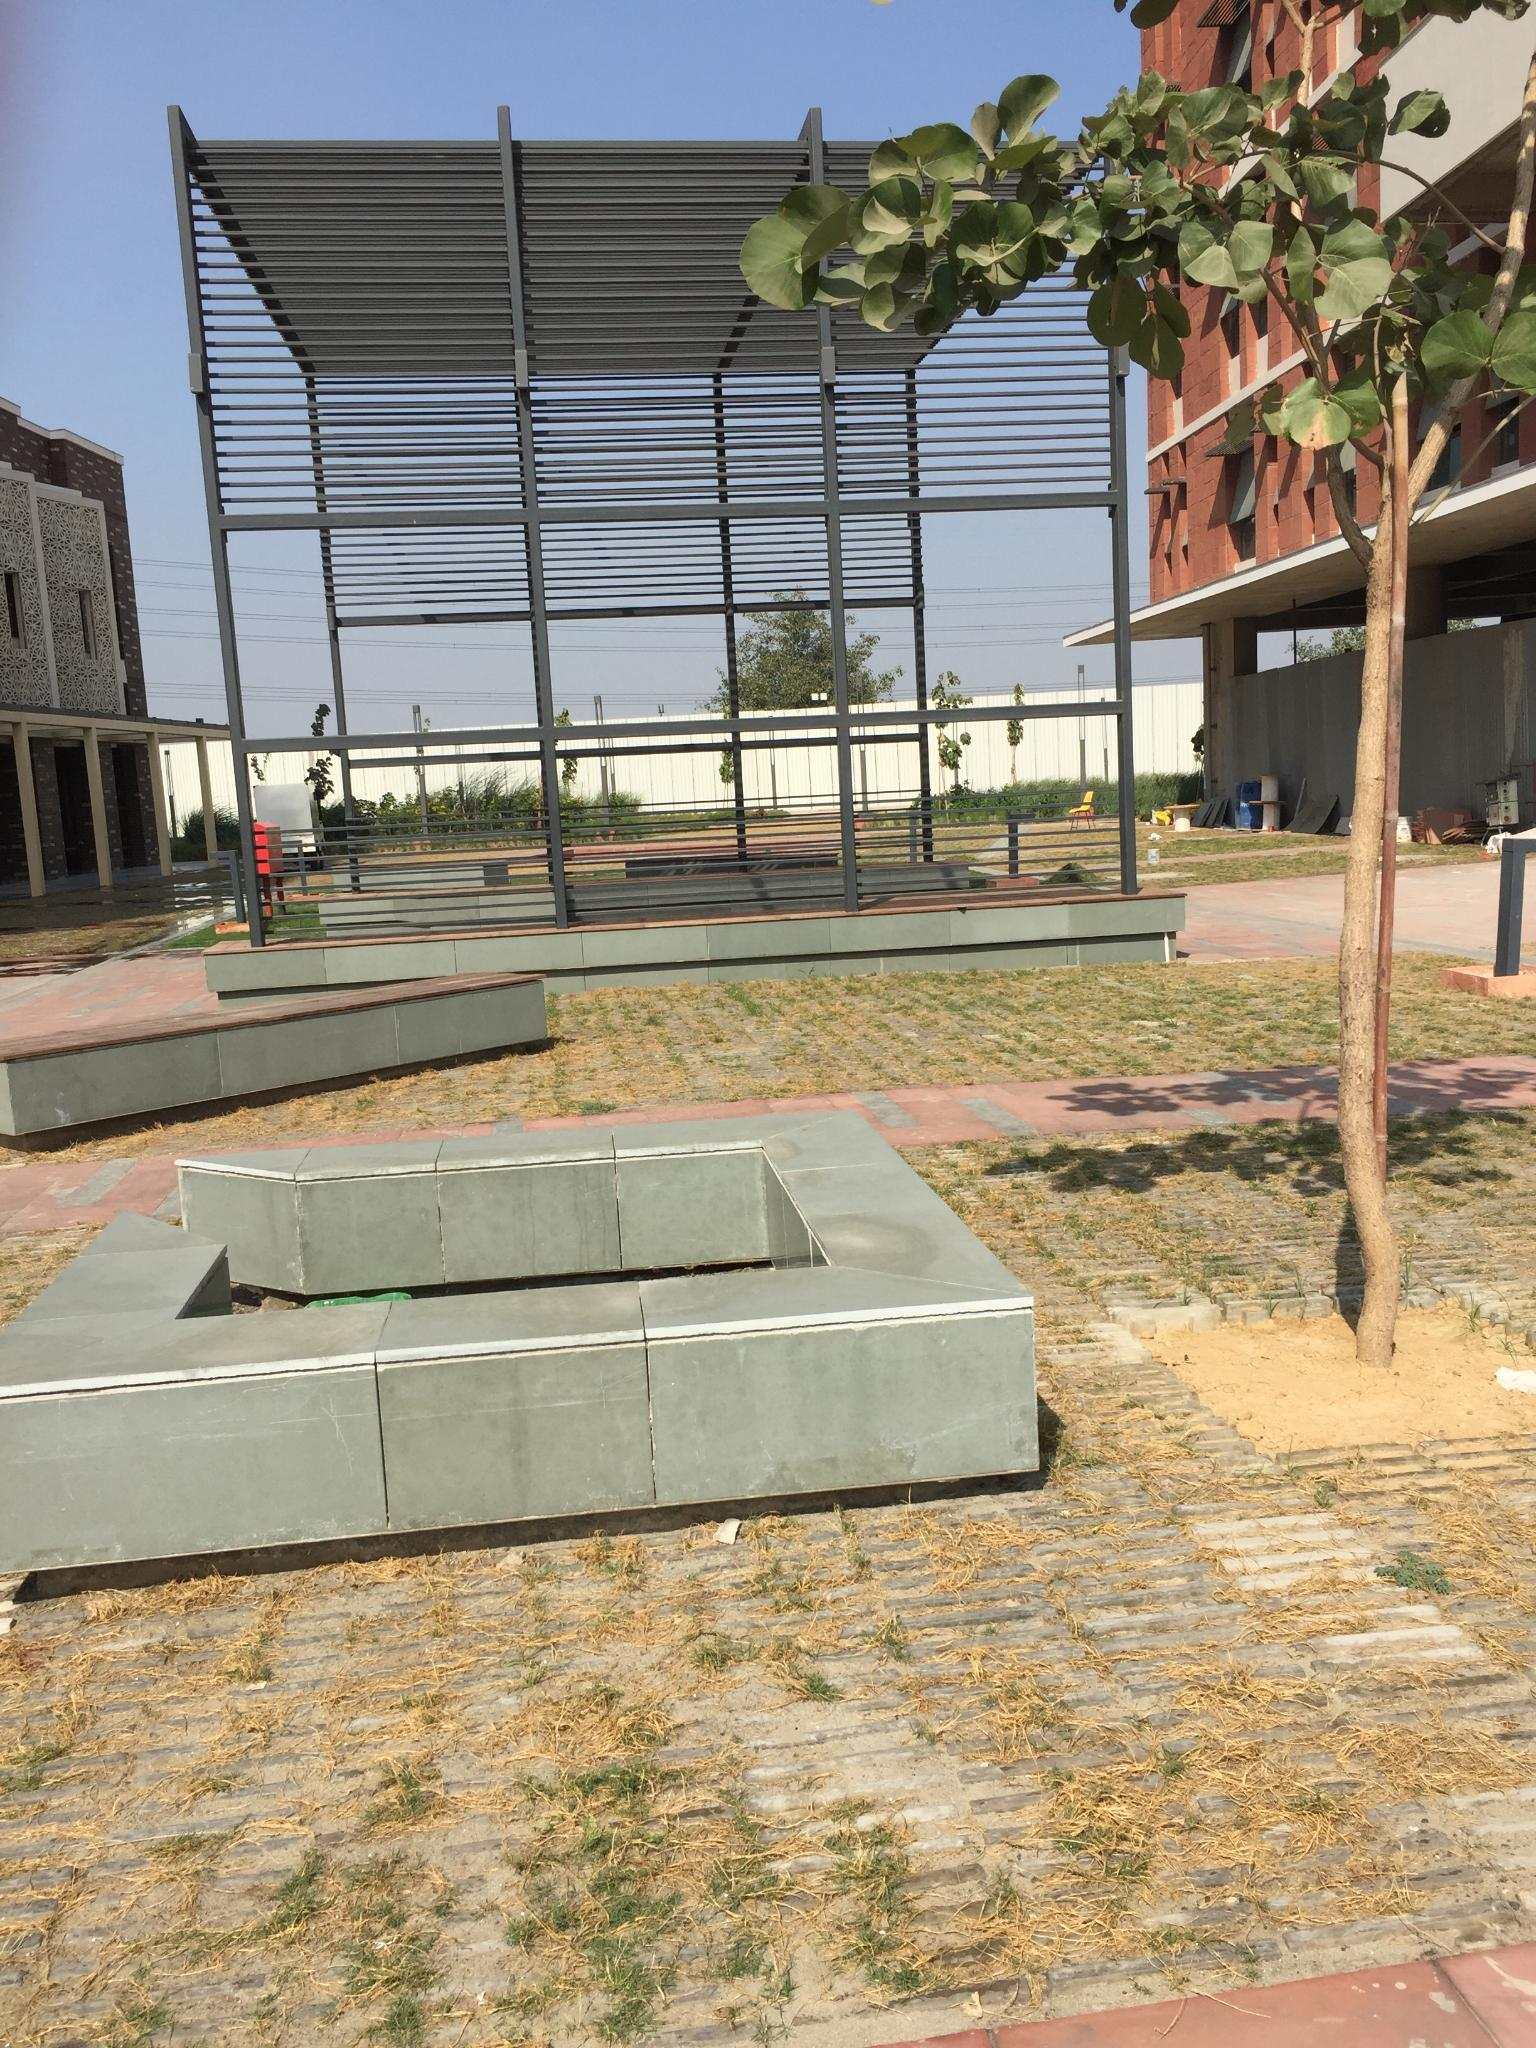chair: (1063, 792, 1100, 830)
